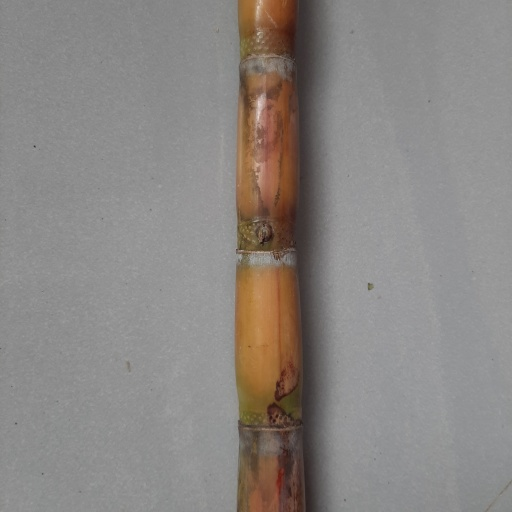Bud: (253, 221, 274, 246)
